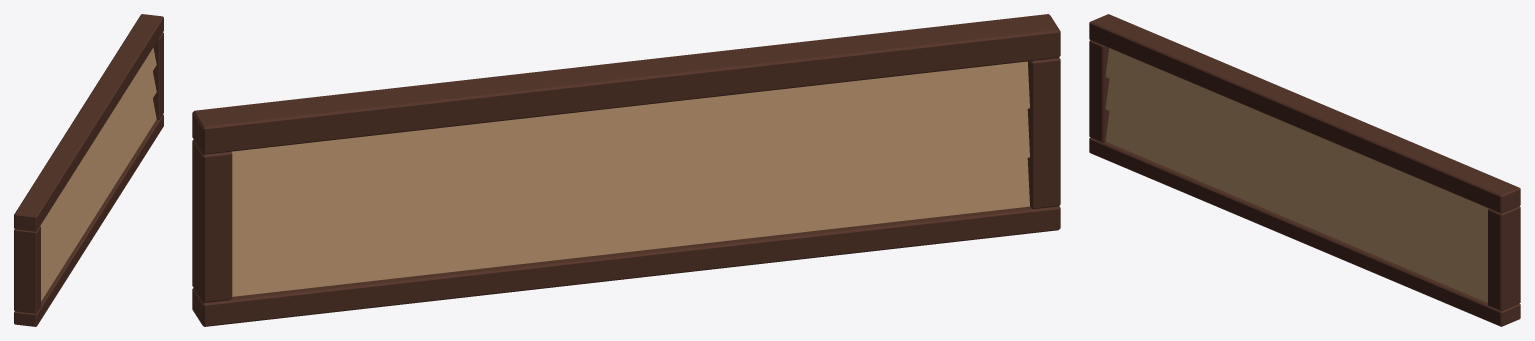
Rendered from sign-f.glb.
3 renders of one model, left to right at view 1: azimuth 30°, elevation 25°; view 2: azimuth 150°, elevation 25°; view 3: azimuth 270°, elevation 25°, orthographic. The views are drawn at different scales.
Visible parts, largest first — view 1: Sign F (×2); view 2: Sign F (×2); view 3: Sign F (×2).
Boxes of the visible parts, bbox=[...] form: Sign F (×2): bbox=[14, 14, 163, 326]; Sign F (×2): bbox=[192, 14, 1060, 326]; Sign F (×2): bbox=[1089, 14, 1520, 326].
Size of the model in its own units: 3.33 by 1.12 by 3.33.
